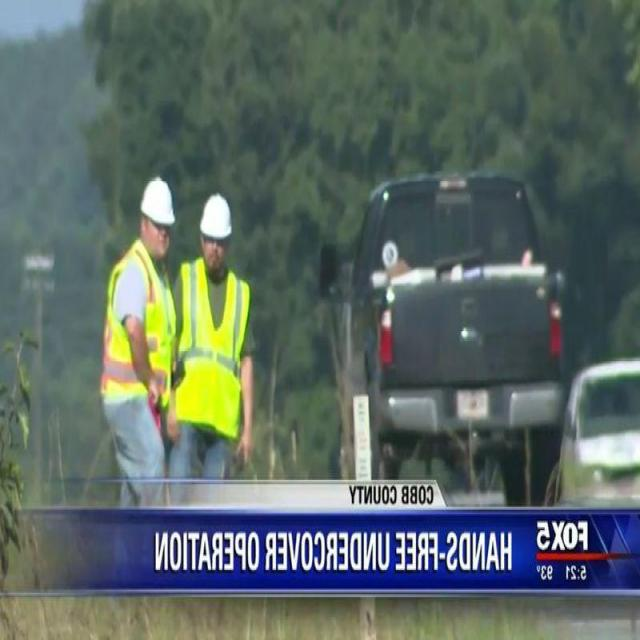Reflective-Jacket: (92, 241, 186, 423), (174, 257, 256, 453)
Safety-Helmet: (133, 164, 180, 240), (194, 183, 239, 254)
